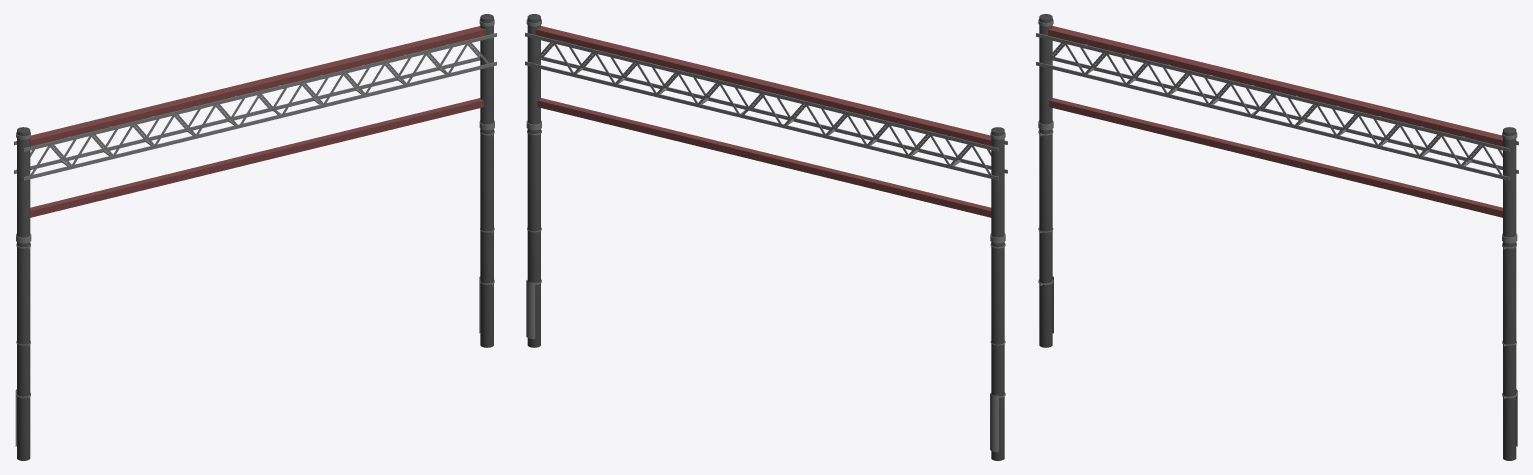
File: SM_pillar_highway_01.fbx
The picture shows the model from 3 angles, left to right: view 1: azimuth 30°, elevation 25°; view 2: azimuth 150°, elevation 25°; view 3: azimuth 330°, elevation 25°; orthographic projection.
Visible parts, largest first — view 1: Cylinder195; view 2: Cylinder195; view 3: Cylinder195.
Boxes of the visible parts, x1,y1,x2,y2 form: Cylinder195: (14,14,496,460); Cylinder195: (525,14,1007,460); Cylinder195: (1036,14,1518,460).
Size of the model in its own units: 435 by 286 by 16.01.
